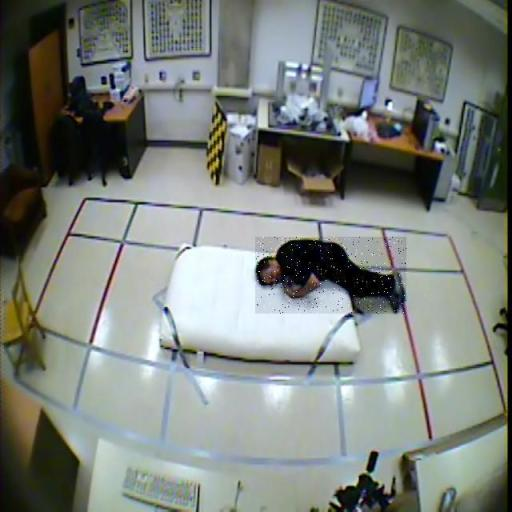Fall: (256, 237, 407, 314)
